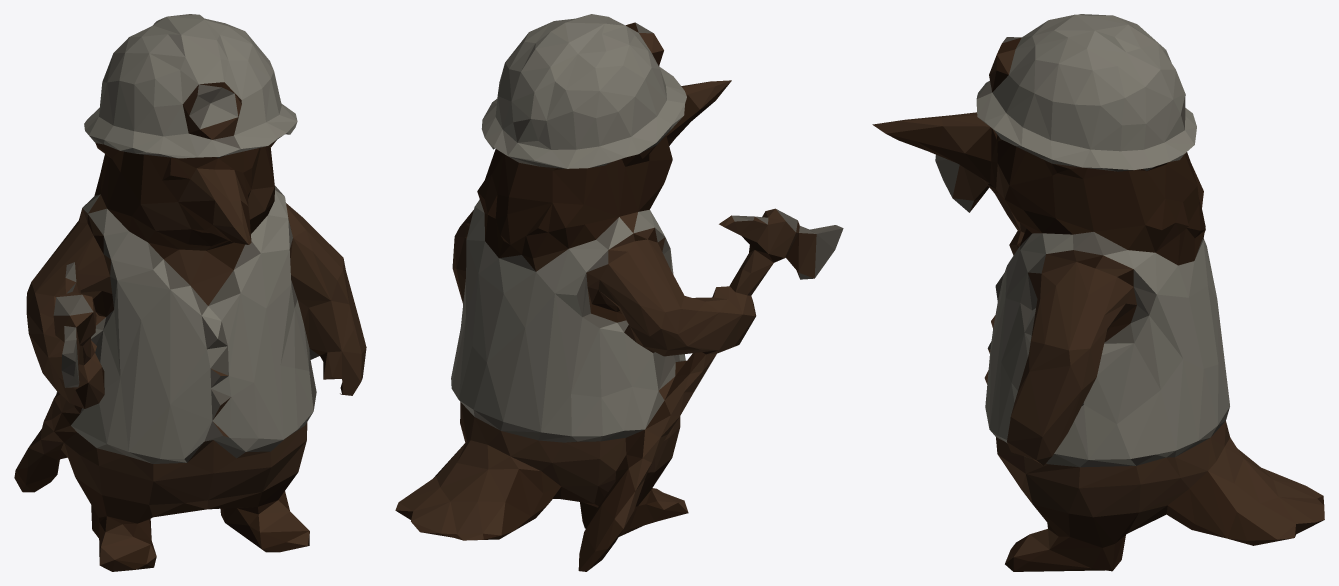
The picture shows the model from 3 angles, left to right: view 1: azimuth 30°, elevation 25°; view 2: azimuth 150°, elevation 25°; view 3: azimuth 270°, elevation 25°; orthographic projection. The views are drawn at different scales.
Parts seen in each view (by area): view 1: lion-1500; view 2: lion-1500; view 3: lion-1500.
Boxes of the visible parts, x1,y1,x2,y2 form: lion-1500: (14,14,366,571); lion-1500: (395,14,843,571); lion-1500: (872,14,1324,571).
Bounding box in the file's own units: 0.7291 × 1 × 0.8055.
